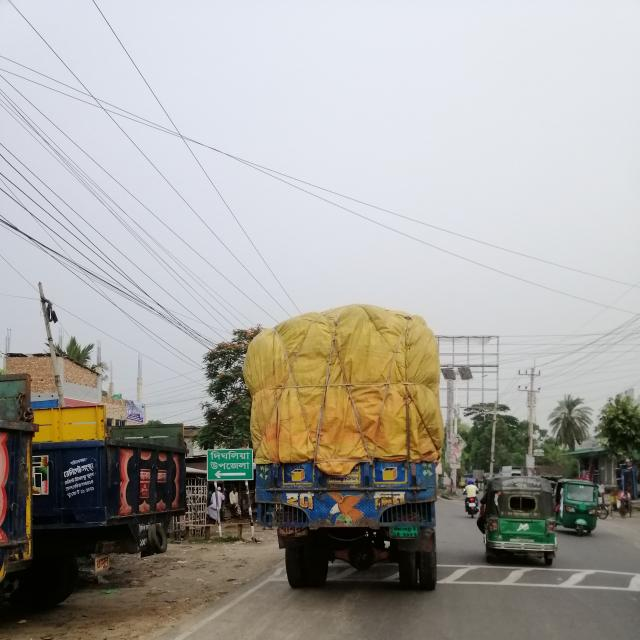CNG: (483, 475, 559, 566)
Truck: (246, 303, 444, 597)
